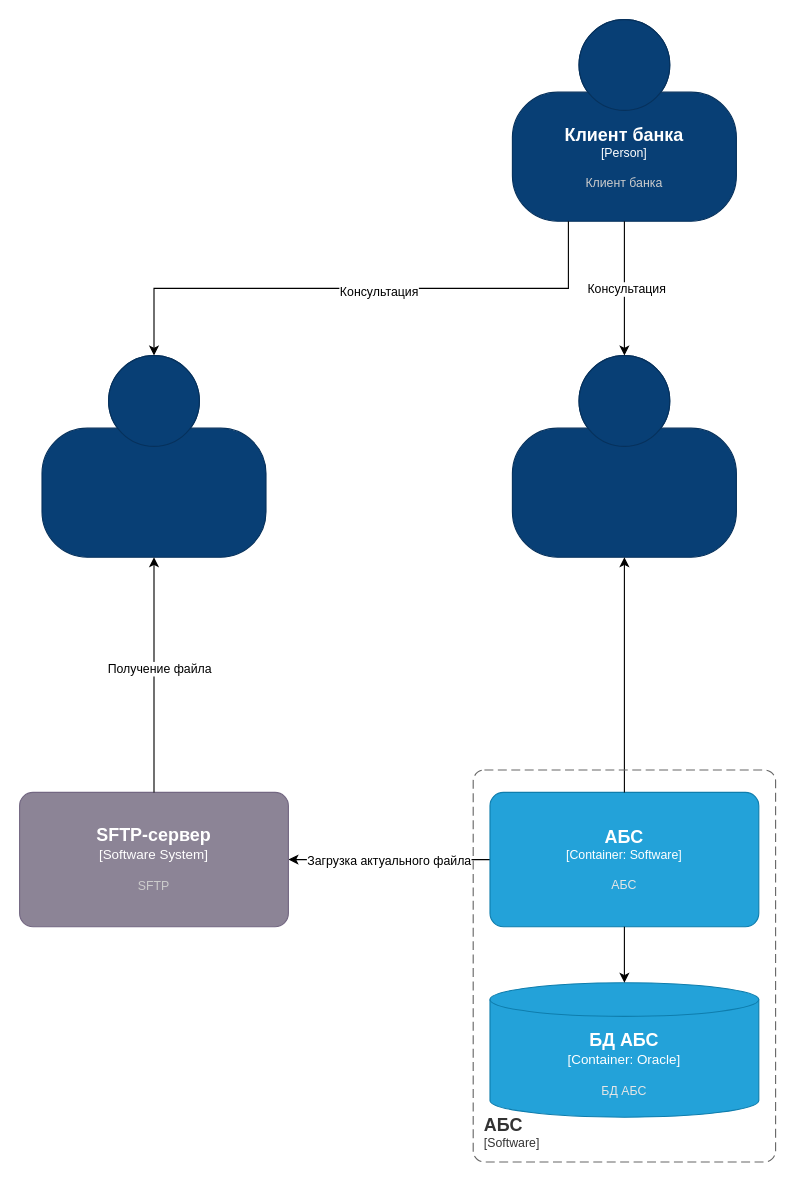
The diagram is 795 pixels wide and 1182 high, and some of its shapes have lost their labels. Each missing label, with the centre of its shape:
Работник кол-центра [Person] Работник кол-центра: (x=623, y=455)
Работник партнерского кол-центра [Person] Работник партнерского кол-центра: (x=153, y=455)
